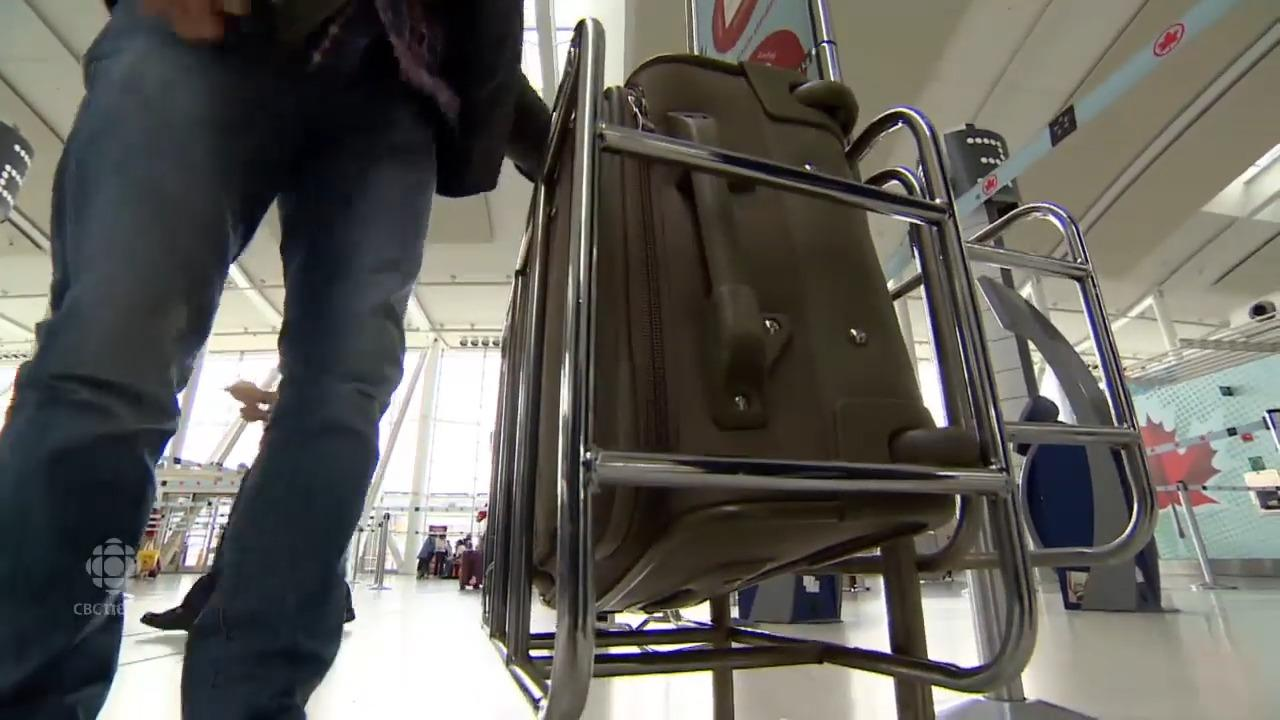luggage: (505, 52, 971, 620)
